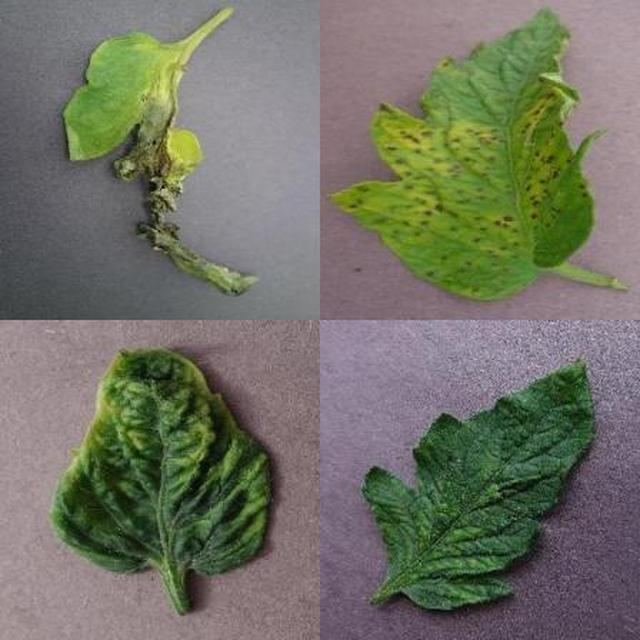Late Blight Leaf: (229, 219, 640, 640)
